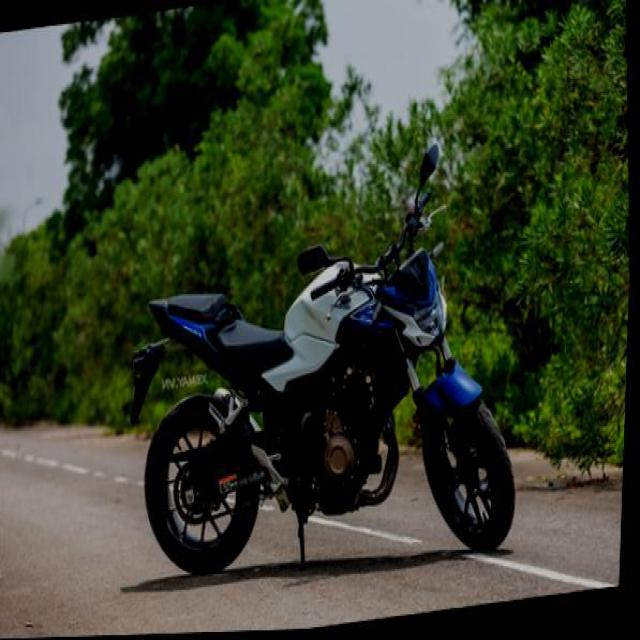CB500F: (132, 238, 528, 605)
